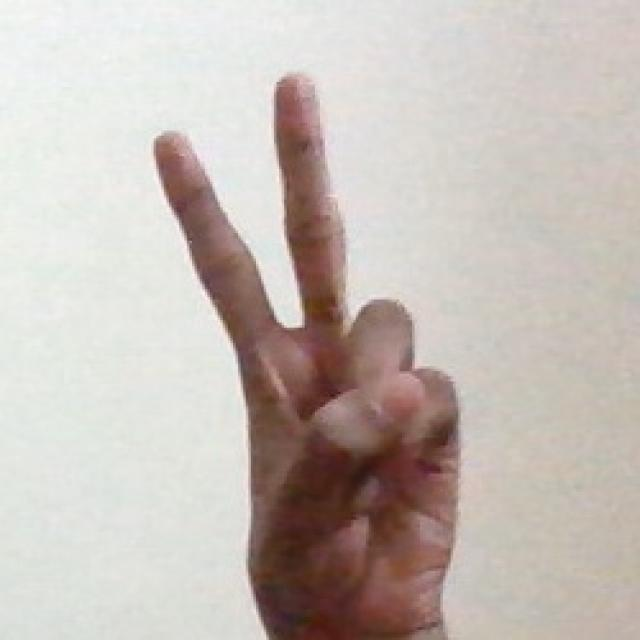Numeric-2: (153, 67, 459, 619)
